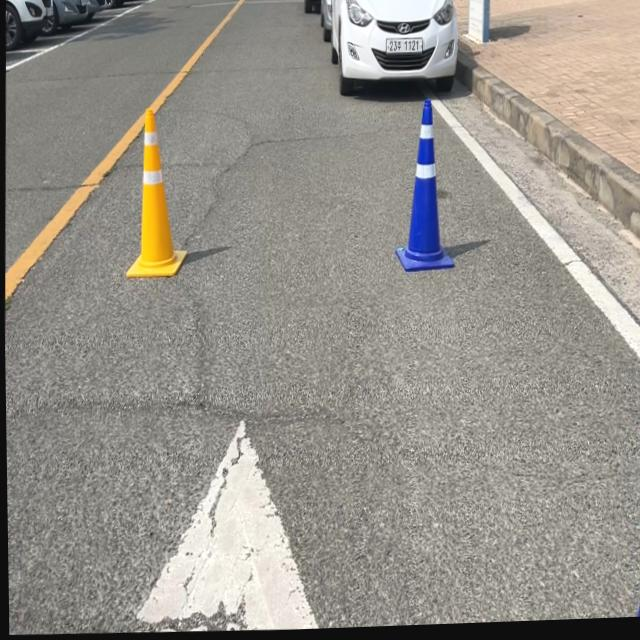b_rub: (394, 100, 453, 274)
y_rub: (125, 108, 185, 277)
